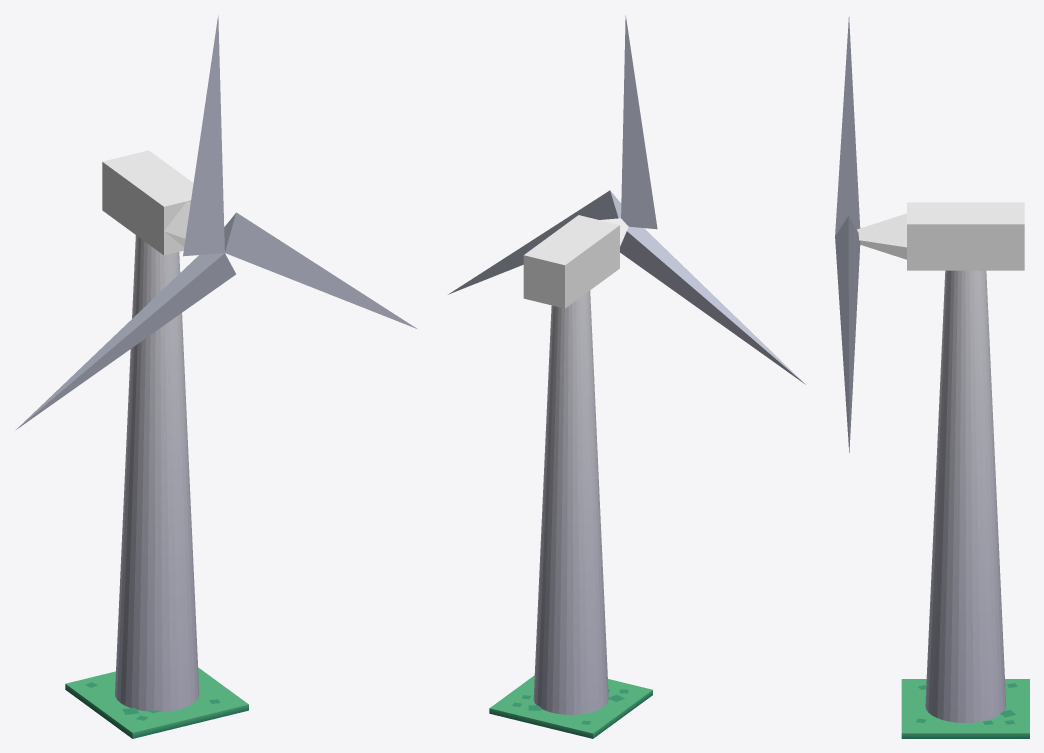
Rendered from wind_turbine.glb.
3 renders of one model, left to right at view 1: azimuth 30°, elevation 25°; view 2: azimuth 150°, elevation 25°; view 3: azimuth 270°, elevation 25°, orthographic. The views are drawn at different scales.
Parts seen in each view (by area): view 1: WindTurbine; view 2: WindTurbine; view 3: WindTurbine.
Part boxes in pixels (x1,y1,x2,y2): WindTurbine: [15, 15, 416, 738]; WindTurbine: [448, 15, 805, 738]; WindTurbine: [835, 16, 1029, 738].
Bounding box in the file's own units: 3.47 × 6.02 × 1.52.
Materials: 2 (2 with a texture image).
